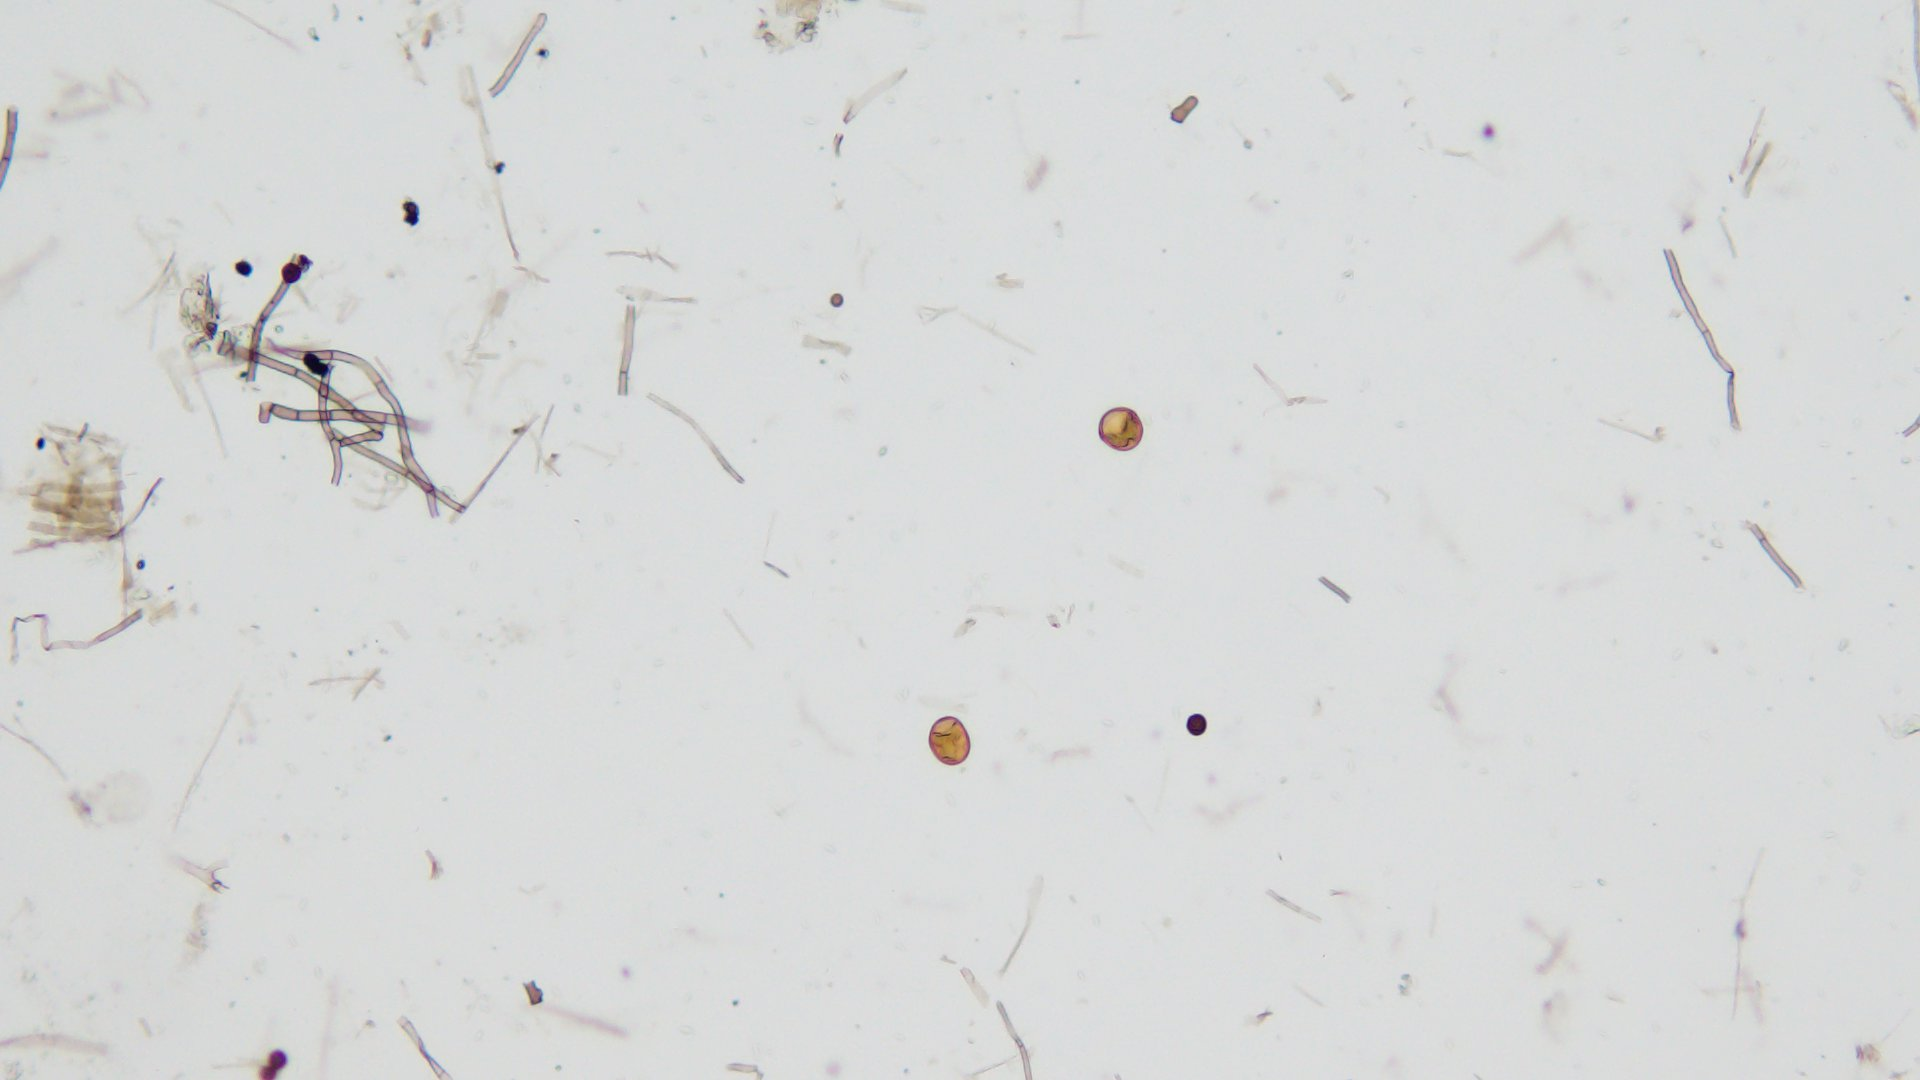shs_spore: (1182, 712, 1211, 736), (278, 264, 302, 285), (266, 1051, 287, 1069)
xb_spore: (924, 716, 971, 767), (1098, 405, 1147, 452)
